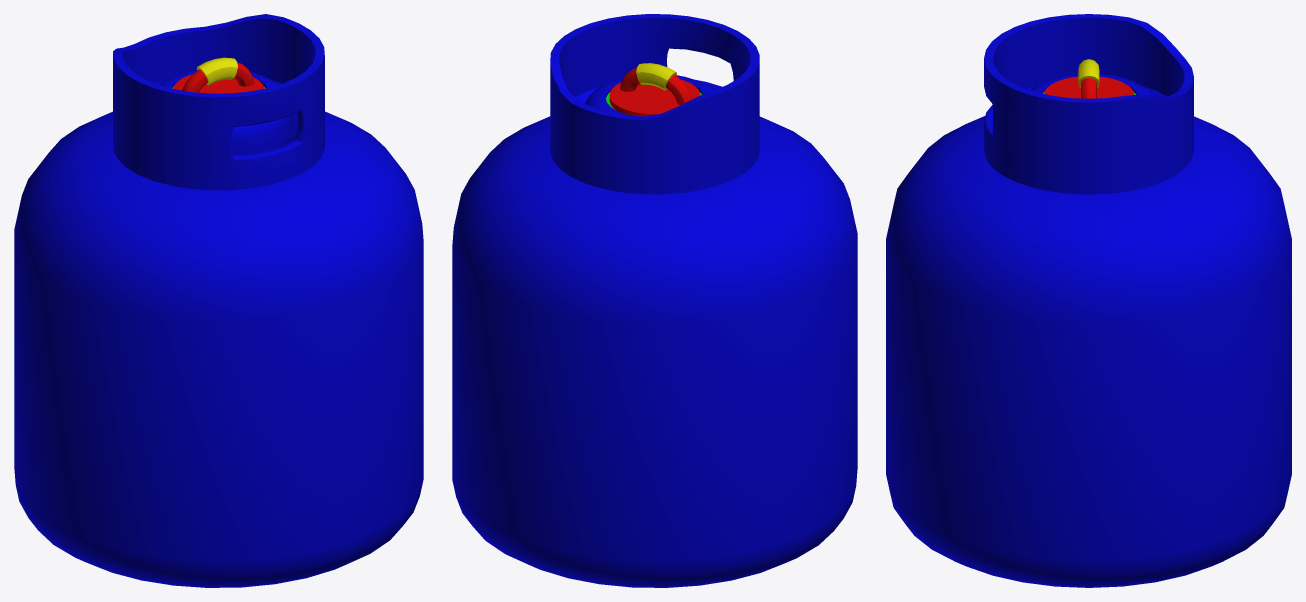
Rendered from boost.dae.
3 views of the same model, side by side, from view 1: azimuth 30°, elevation 25°; view 2: azimuth 150°, elevation 25°; view 3: azimuth 270°, elevation 25° (orthographic).
Parts seen in each view (by area): view 1: Gas Tank; view 2: Gas Tank; view 3: Gas Tank.
Part boxes in pixels (x1,y1,x2,y2): Gas Tank: (14, 14, 423, 587); Gas Tank: (452, 14, 857, 587); Gas Tank: (886, 14, 1291, 587).
Size of the model in its own units: 2 by 2 by 2.5.
